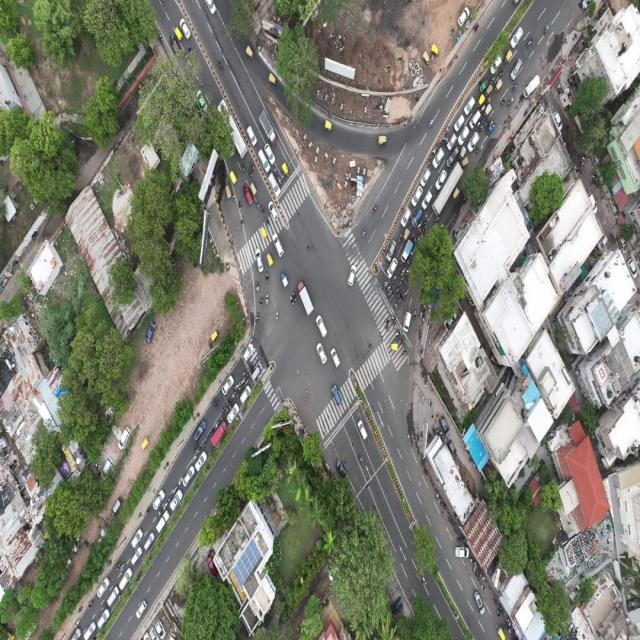3W: (228, 169, 238, 186), (282, 160, 291, 178), (378, 134, 388, 150), (224, 184, 233, 200), (324, 118, 333, 134), (259, 223, 268, 239), (265, 251, 274, 267), (504, 48, 514, 62), (431, 42, 440, 57), (478, 91, 486, 107), (246, 45, 254, 61), (174, 28, 183, 42), (485, 84, 495, 96), (495, 78, 503, 93), (142, 437, 151, 450), (249, 182, 258, 195), (211, 330, 220, 342), (423, 50, 430, 65), (463, 155, 471, 168), (499, 626, 506, 640), (452, 187, 459, 201), (402, 228, 410, 240), (269, 72, 276, 85), (390, 341, 399, 351), (462, 145, 468, 159), (485, 104, 492, 115)
Bus: (433, 159, 464, 217), (218, 98, 246, 157)
Cars: (156, 508, 172, 534), (523, 75, 540, 99), (258, 148, 271, 173), (434, 149, 448, 172), (152, 489, 166, 512), (509, 26, 524, 47), (388, 258, 401, 282), (473, 591, 486, 615), (98, 607, 111, 631), (447, 146, 460, 170), (270, 172, 282, 198), (316, 313, 328, 338), (272, 233, 284, 258), (491, 53, 504, 76), (96, 577, 110, 598), (120, 568, 132, 592), (412, 208, 425, 230), (180, 17, 193, 39), (118, 426, 130, 449), (411, 184, 423, 207), (468, 130, 480, 153), (357, 418, 369, 441), (104, 452, 115, 477), (242, 184, 253, 209), (193, 421, 206, 442), (227, 403, 241, 422), (401, 206, 413, 228), (315, 343, 327, 365), (184, 465, 196, 487), (108, 586, 120, 608), (510, 58, 522, 80), (197, 451, 210, 471), (171, 490, 184, 510), (434, 170, 447, 190), (459, 6, 471, 27), (388, 238, 400, 259), (468, 110, 482, 128), (251, 363, 264, 382), (221, 375, 234, 394), (136, 601, 147, 623), (446, 132, 458, 152), (86, 620, 98, 640), (458, 127, 471, 145), (464, 95, 475, 116), (146, 320, 156, 343), (254, 249, 264, 272), (265, 143, 275, 166), (132, 548, 144, 567), (421, 192, 433, 211), (131, 529, 143, 548), (144, 532, 155, 552), (247, 126, 257, 148), (421, 168, 433, 186), (240, 386, 252, 404), (268, 201, 278, 222), (455, 545, 469, 560), (336, 458, 346, 479), (112, 496, 122, 516), (332, 385, 342, 405), (244, 343, 254, 362), (404, 309, 411, 335), (454, 113, 464, 131), (331, 347, 340, 367), (349, 264, 356, 287)
LCV: (486, 120, 496, 136), (483, 78, 492, 94), (281, 273, 288, 289)
M2W: (276, 309, 282, 323), (474, 18, 479, 34), (392, 313, 400, 323), (506, 112, 514, 122), (239, 215, 245, 228), (358, 453, 364, 466), (527, 36, 533, 49), (543, 23, 550, 34), (512, 80, 518, 92), (292, 288, 298, 300), (236, 198, 242, 210), (255, 280, 261, 292), (218, 60, 224, 72), (481, 103, 488, 113), (240, 164, 247, 174), (289, 296, 294, 310), (202, 440, 208, 451), (274, 168, 280, 179), (115, 560, 121, 571), (278, 176, 284, 187), (209, 396, 215, 407), (255, 310, 261, 321), (146, 504, 152, 515), (372, 203, 378, 214), (230, 393, 236, 403), (383, 279, 389, 289), (101, 602, 107, 612), (88, 599, 94, 609), (428, 118, 434, 128), (265, 272, 270, 284), (254, 200, 260, 210), (507, 96, 513, 106), (499, 68, 505, 78), (385, 323, 392, 331), (118, 562, 125, 570), (259, 295, 264, 306), (413, 309, 418, 320), (480, 125, 486, 134), (250, 160, 256, 169), (248, 168, 254, 177), (179, 475, 185, 484), (243, 368, 248, 378), (220, 413, 225, 423), (210, 426, 215, 436), (386, 314, 391, 324), (259, 350, 264, 360), (226, 406, 232, 414), (174, 485, 180, 493), (214, 401, 220, 409), (264, 293, 268, 305), (362, 227, 366, 239), (501, 98, 507, 106), (406, 287, 411, 296), (488, 95, 493, 104), (485, 119, 490, 128), (438, 141, 443, 150), (194, 453, 199, 462), (447, 125, 451, 136), (395, 335, 401, 342), (245, 379, 250, 387), (429, 156, 433, 166), (395, 302, 400, 310), (394, 323, 399, 331), (401, 276, 405, 286), (393, 274, 398, 282), (400, 295, 405, 303), (418, 221, 423, 229), (399, 232, 403, 242), (166, 497, 170, 507), (260, 204, 264, 214), (409, 250, 414, 258), (399, 265, 403, 274), (478, 118, 482, 127), (198, 444, 202, 453), (239, 380, 245, 386), (266, 217, 270, 226), (397, 291, 402, 298), (236, 394, 240, 402), (397, 284, 401, 292), (405, 278, 409, 286), (442, 136, 446, 144), (413, 231, 417, 239), (216, 420, 220, 428), (234, 383, 238, 390), (407, 267, 410, 276), (388, 284, 392, 290), (389, 290, 393, 296), (390, 294, 394, 300), (415, 238, 418, 246), (407, 257, 410, 265), (446, 137, 449, 143)
MAV: (401, 241, 414, 264), (158, 30, 163, 43)
Truck: (258, 110, 278, 146), (297, 279, 316, 315), (213, 419, 229, 447)
